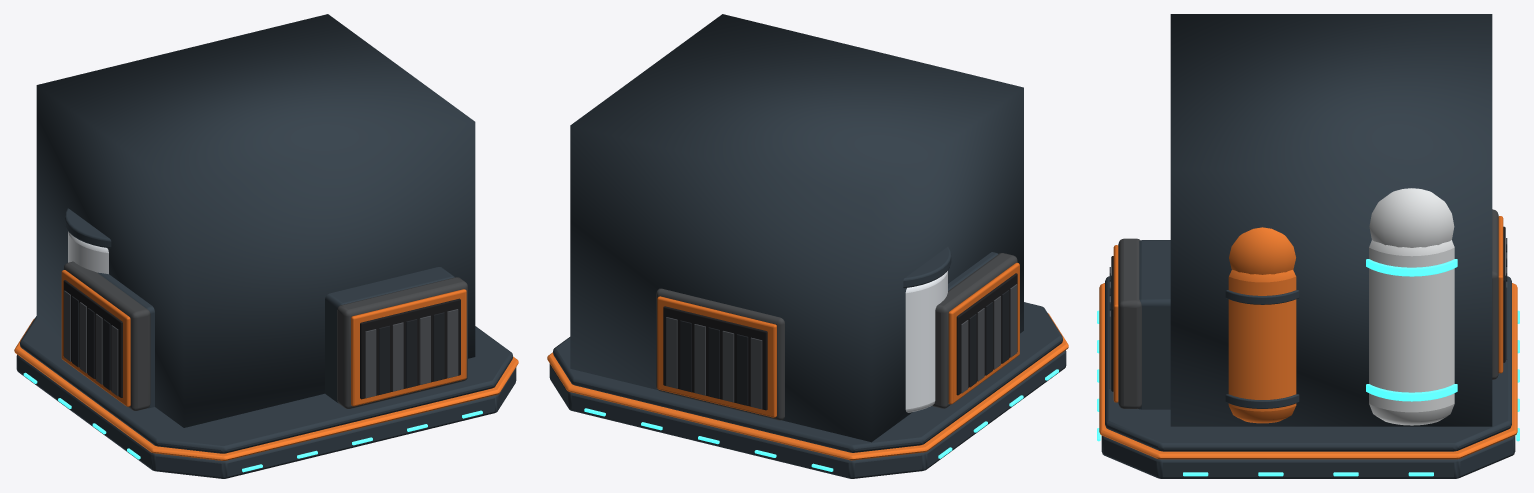
The model's file is electrolyzer.glb.
The picture shows the model from 3 angles, left to right: view 1: azimuth 30°, elevation 25°; view 2: azimuth 150°, elevation 25°; view 3: azimuth 270°, elevation 25°; orthographic projection. The views are drawn at different scales.
Visible parts, largest first — view 1: COL_body, deck, plinth, plinth lip, port 1 frame, port 0 frame, port block 1, port 1 enamel, port 1 throat, port 0 enamel, port 0 throat, melt tank (+14 smaller); view 2: COL_body, deck, plinth, plinth lip, melt tank, port 2 enamel, port 2 throat, port 0 frame, port 2 frame, port 0 enamel, port 0 throat, melt lid (+14 smaller); view 3: COL_body, oxygen tank, deck, hydrogen tank, plinth, plinth lip, port block 1, oxygen dome, port 1 frame, hydrogen dome, port 2 frame, port 1 enamel (+5 smaller).
Boxes of the visible parts, left/top/right/bottom form: COL_body: left=36, top=14, right=475, bottom=427; deck: left=20, top=316, right=512, bottom=453; plinth: left=16, top=354, right=516, bottom=478; plinth lip: left=14, top=318, right=518, bottom=460; port 1 frame: left=337, top=277, right=467, bottom=408; port 0 frame: left=63, top=261, right=150, bottom=410; port block 1: left=325, top=267, right=454, bottom=402; port 1 enamel: left=351, top=289, right=466, bottom=406; port 1 throat: left=360, top=298, right=460, bottom=399; port 0 enamel: left=61, top=270, right=130, bottom=406; port 0 throat: left=63, top=280, right=122, bottom=397; melt tank: left=68, top=231, right=108, bottom=274; COL_body: left=570, top=14, right=1023, bottom=442; deck: left=553, top=302, right=1062, bottom=452; plinth: left=549, top=350, right=1066, bottom=478; plinth lip: left=547, top=313, right=1068, bottom=460; melt tank: left=905, top=271, right=947, bottom=412; port 2 enamel: left=657, top=296, right=776, bottom=417; port 2 throat: left=663, top=306, right=767, bottom=410; port 0 frame: left=932, top=253, right=1017, bottom=408; port 2 frame: left=656, top=288, right=784, bottom=420; port 0 enamel: left=948, top=262, right=1019, bottom=404; port 0 throat: left=956, top=273, right=1017, bottom=395; melt lid: left=903, top=247, right=951, bottom=288; COL_body: left=1170, top=14, right=1492, bottom=426; oxygen tank: left=1369, top=240, right=1454, bottom=425; deck: left=1105, top=276, right=1511, bottom=451; hydrogen tank: left=1228, top=270, right=1296, bottom=423; plinth: left=1101, top=435, right=1515, bottom=478; plinth lip: left=1099, top=283, right=1517, bottom=459; port block 1: left=1138, top=240, right=1170, bottom=409; oxygen dome: left=1369, top=188, right=1454, bottom=247; port 1 frame: left=1118, top=238, right=1141, bottom=408; hydrogen dome: left=1229, top=227, right=1295, bottom=274; port 2 frame: left=1492, top=209, right=1498, bottom=379; port 1 enamel: left=1113, top=245, right=1118, bottom=402.
Size of the model in its own units: 4.08 by 2.8 by 3.68.
